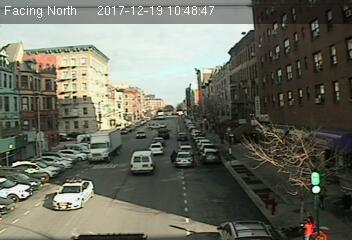car: (174, 151, 193, 167), (201, 149, 218, 162), (148, 143, 163, 155), (176, 132, 187, 141)
police: (50, 176, 98, 211)
truck: (87, 127, 122, 162), (129, 150, 155, 174)
